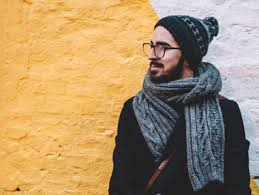Glasses: (138, 40, 184, 60)
